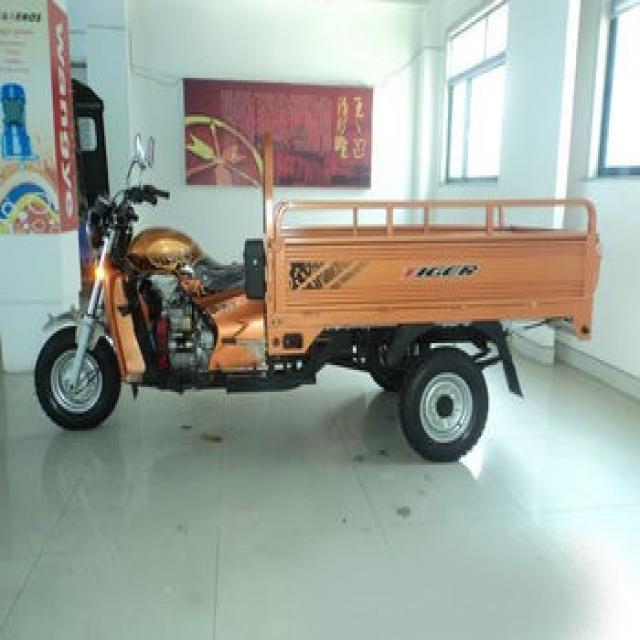tricycle: (33, 127, 598, 455)
